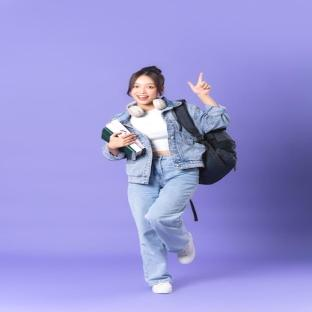Human: (103, 67, 205, 293), (185, 74, 230, 135)
